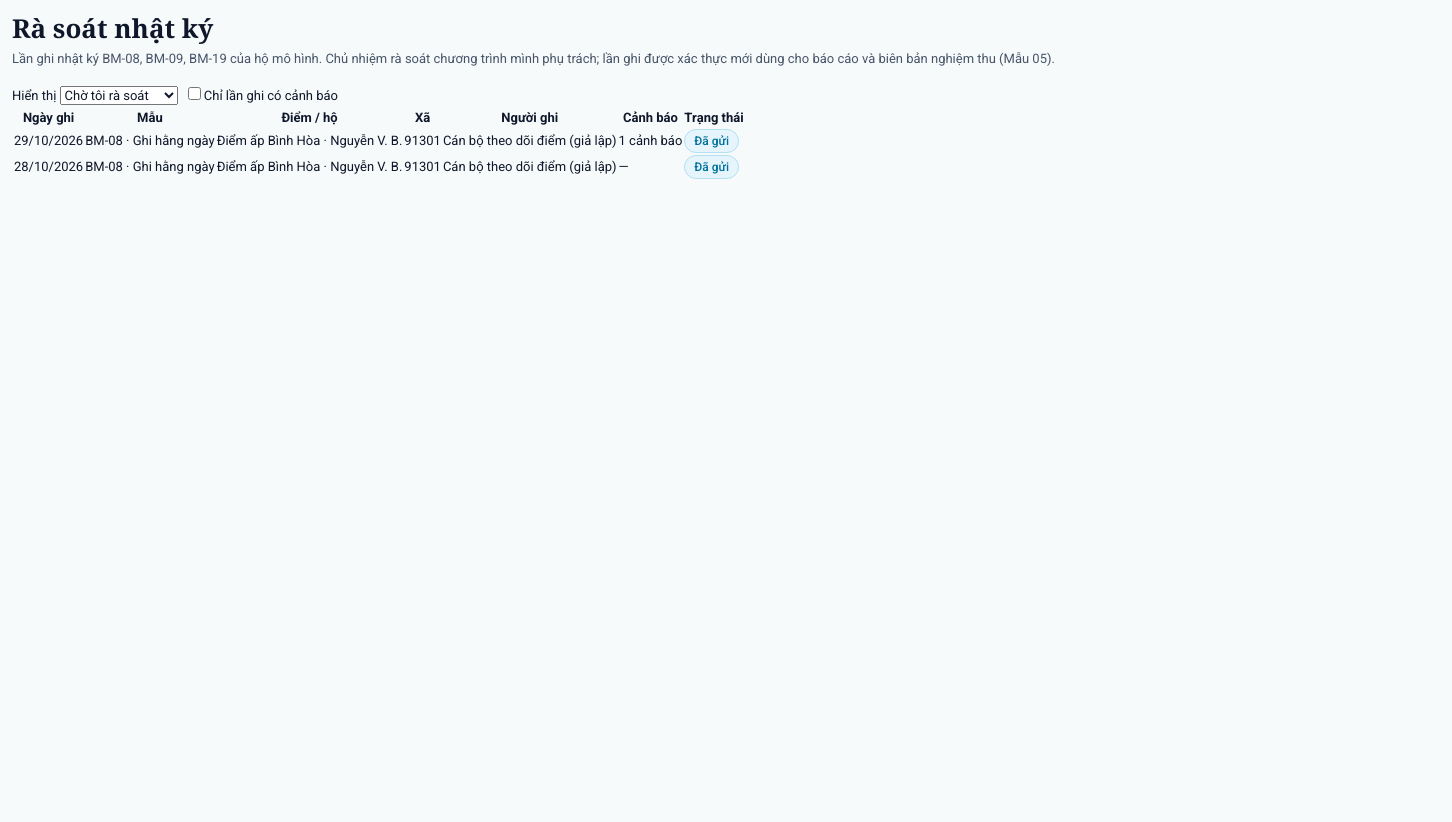
Test: W11.48 Rà soát nhật ký: hàng chờ, chi tiết (vị trí xa điểm), xác thực
Click the button "29/10/2026".
click(49, 141)  # box [14, 131, 83, 151]
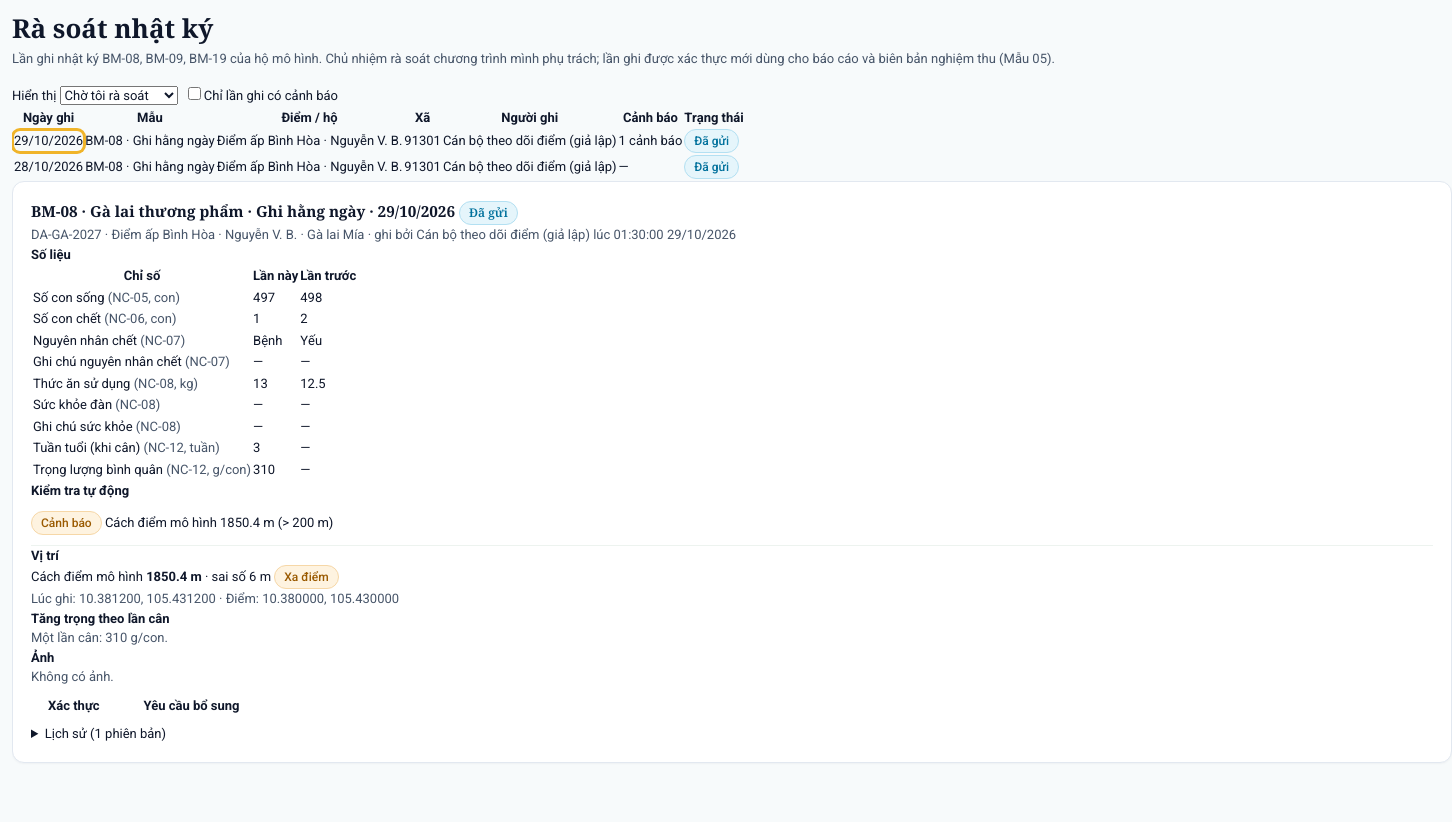
expect the text "Xa điểm" is shown: met, box [274, 565, 339, 589]
Click the button "Xác thực".
click(74, 705)  # box [31, 686, 117, 724]
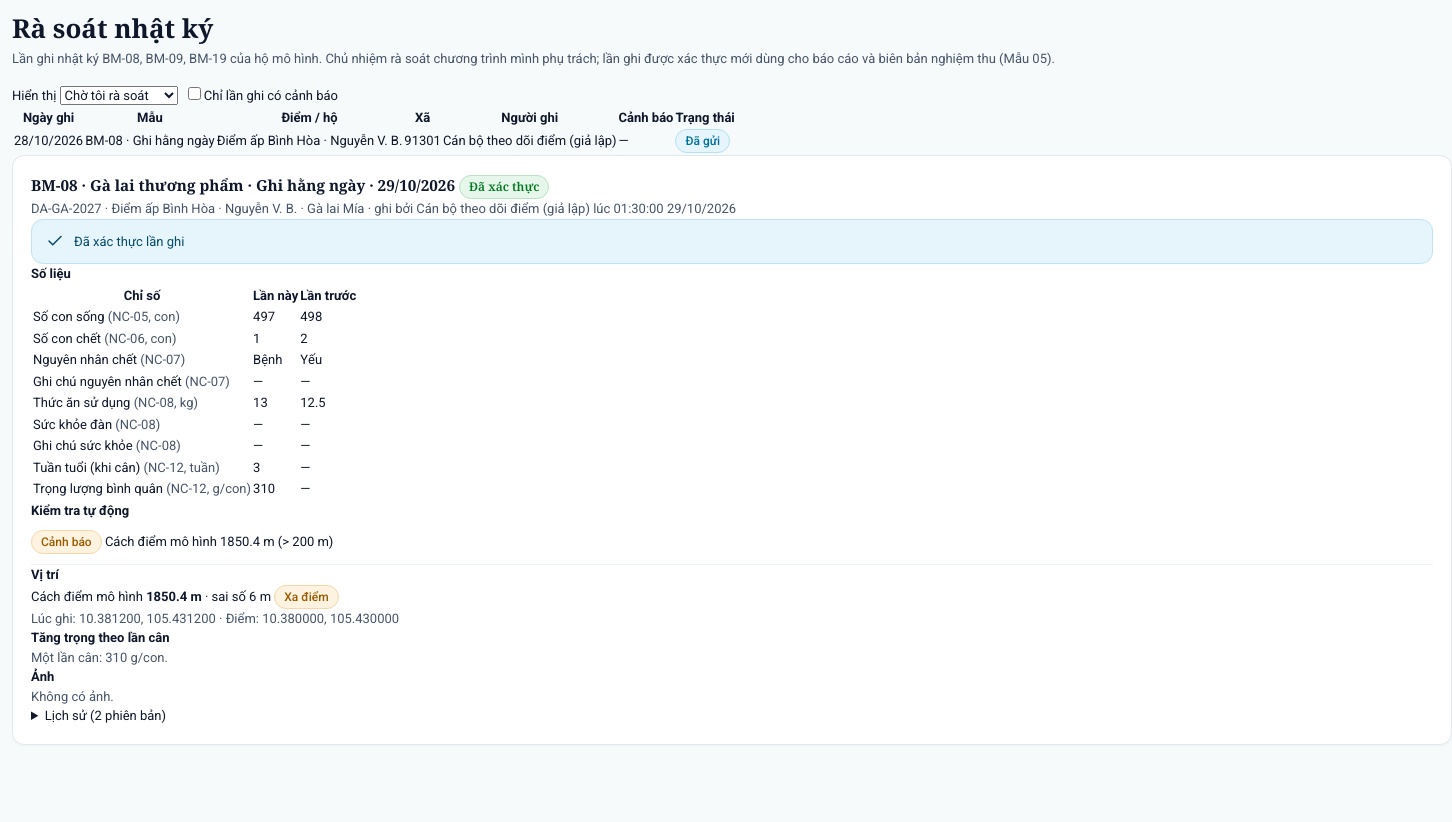
expect the text "Đã xác thực lần ghi" is shown: met, box [74, 232, 184, 251]
